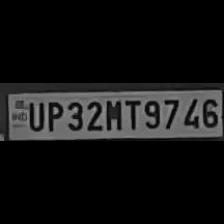2: (84, 97, 104, 130)
3: (64, 97, 82, 130)
4: (180, 96, 198, 128)
6: (200, 96, 218, 128)
7: (162, 96, 178, 130)
9: (140, 96, 160, 130)
M: (104, 97, 122, 131)
P: (45, 98, 63, 132)
T: (122, 97, 139, 131)
U: (25, 99, 42, 131)
